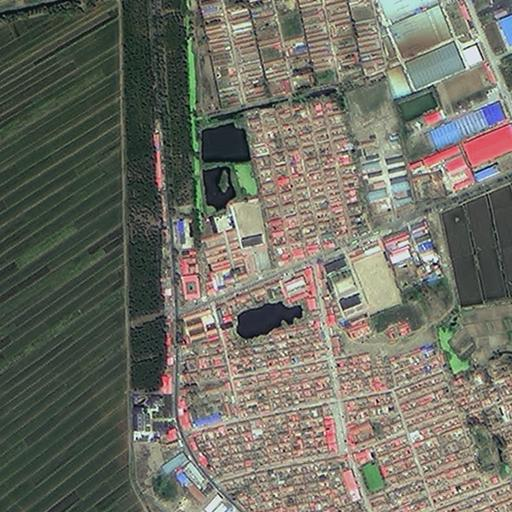school: (318, 237, 404, 325), (228, 196, 270, 278)
